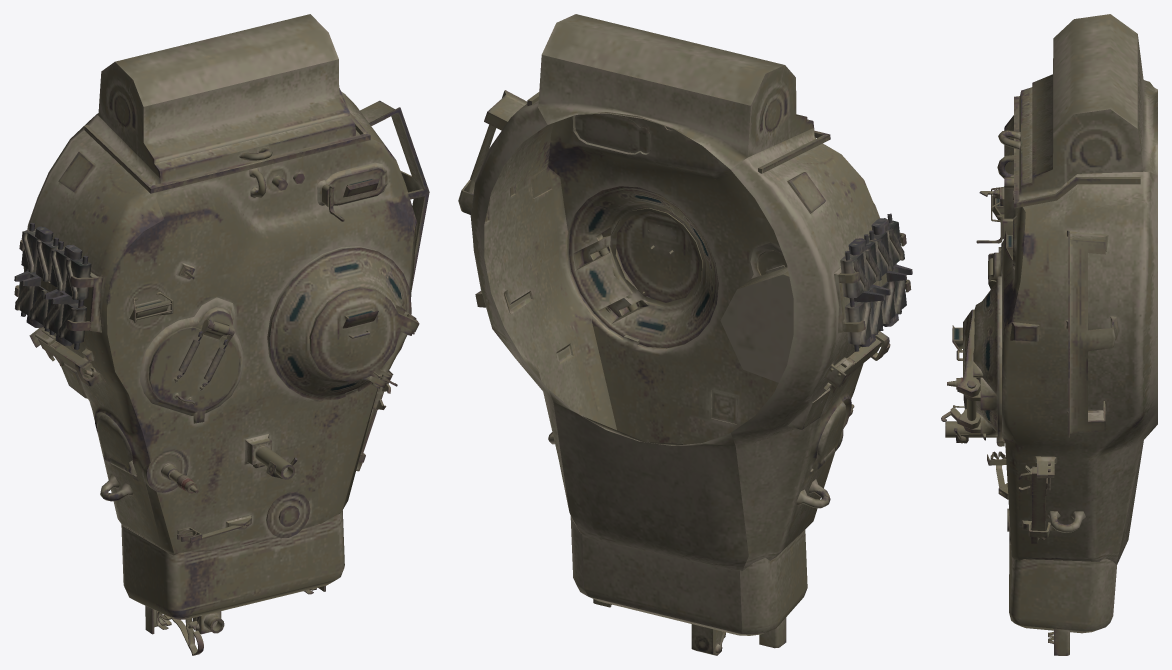
The model's file is Turret_01.glb.
The picture shows the model from 3 angles, left to right: view 1: azimuth 30°, elevation 25°; view 2: azimuth 150°, elevation 25°; view 3: azimuth 270°, elevation 25°; orthographic projection. The views are drawn at different scales.
Parts seen in each view (by area): view 1: set_0_group_0; view 2: set_0_group_0; view 3: set_0_group_0.
Part boxes in pixels (<box>): set_0_group_0: <box>14,14,429,655</box>; set_0_group_0: <box>458,14,912,655</box>; set_0_group_0: <box>941,14,1157,655</box>.
Bounding box in the file's own units: 2.67 × 3.66 × 1.26.
1 material, 1 textured.
